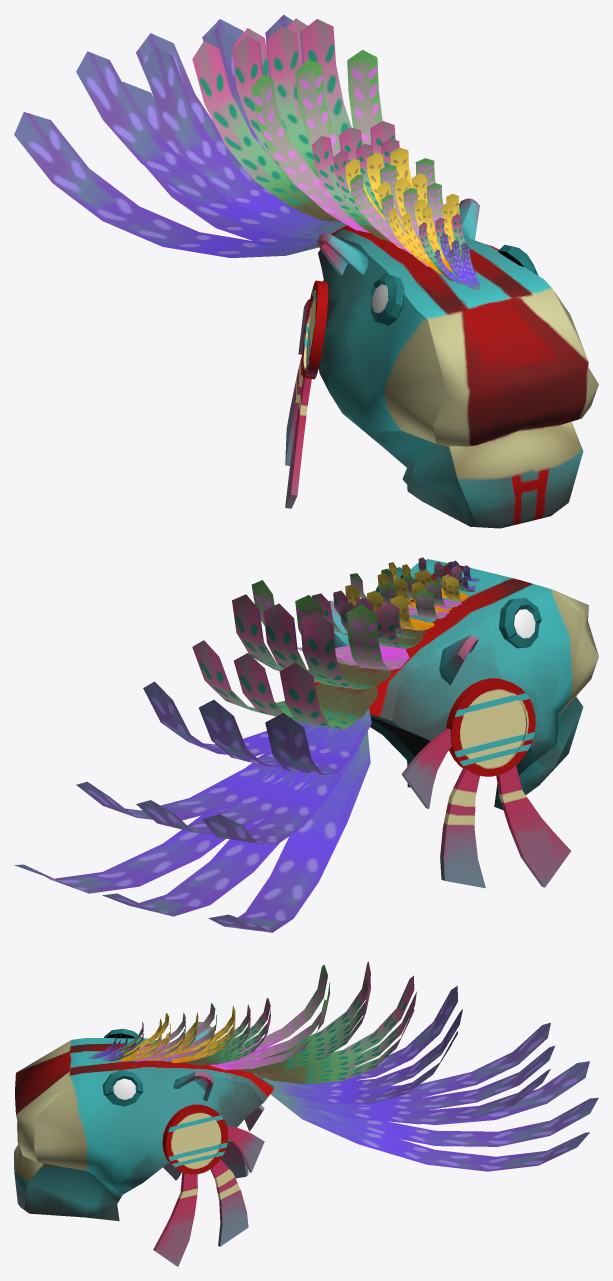
File: SM_MASK_JAGUAR.FBX
3 renders of one model, top to bottom at view 1: azimuth 30°, elevation 25°; view 2: azimuth 150°, elevation 25°; view 3: azimuth 270°, elevation 25°, orthographic. The views are drawn at different scales.
Visible parts, largest first — view 1: Box002; view 2: Box002; view 3: Box002.
Part boxes in pixels (left/top/right/bottom): Box002: left=14, top=14, right=598, bottom=528; Box002: left=14, top=557, right=598, bottom=932; Box002: left=14, top=961, right=598, bottom=1266.
Size of the model in its own units: 45.81 by 55.99 by 118.
1 material, 1 textured.
